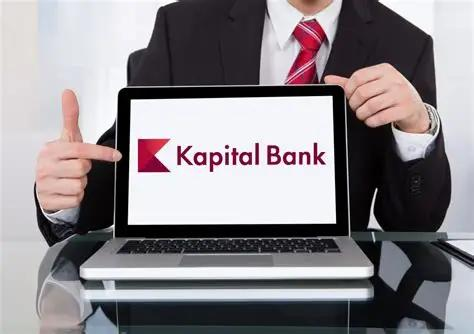Kapital Bank: (136, 138, 172, 172)
